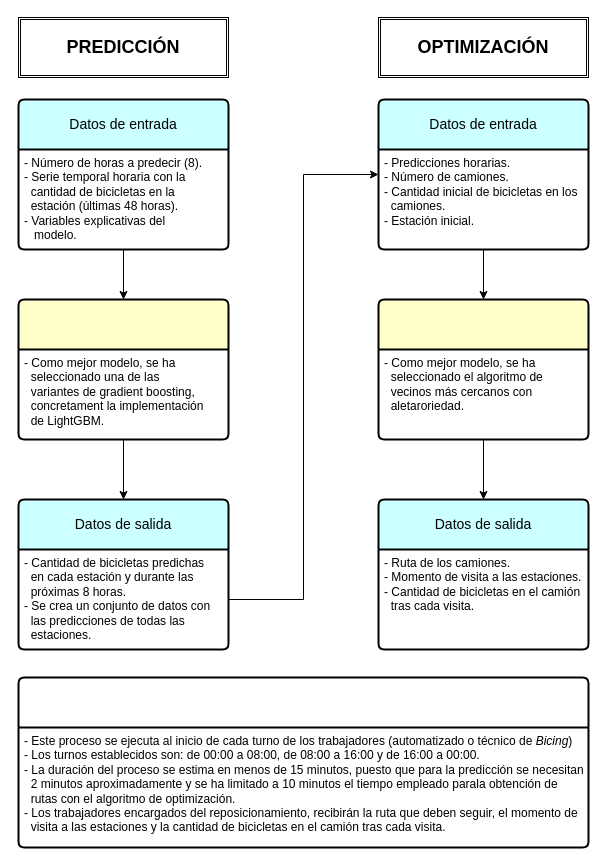
Image size: 606x867. Some labels were removed from this diagram. The box of each missing label's shape, as (x1, y1, x2, y2) in pixels:
Ejecución modelo optimización: (377, 298, 589, 440)
Ejecución modelos predictivos: (17, 298, 229, 440)
OBSERVACIONES: (17, 676, 589, 848)
